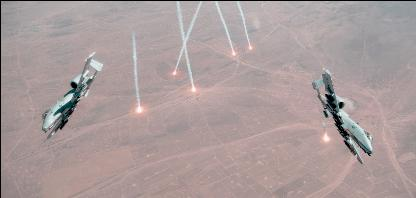A10: (310, 66, 372, 164), (40, 50, 102, 142)
